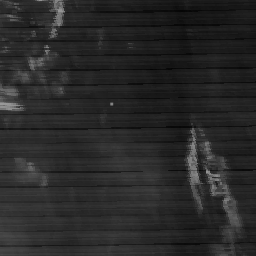Target: (108, 101, 114, 107)
